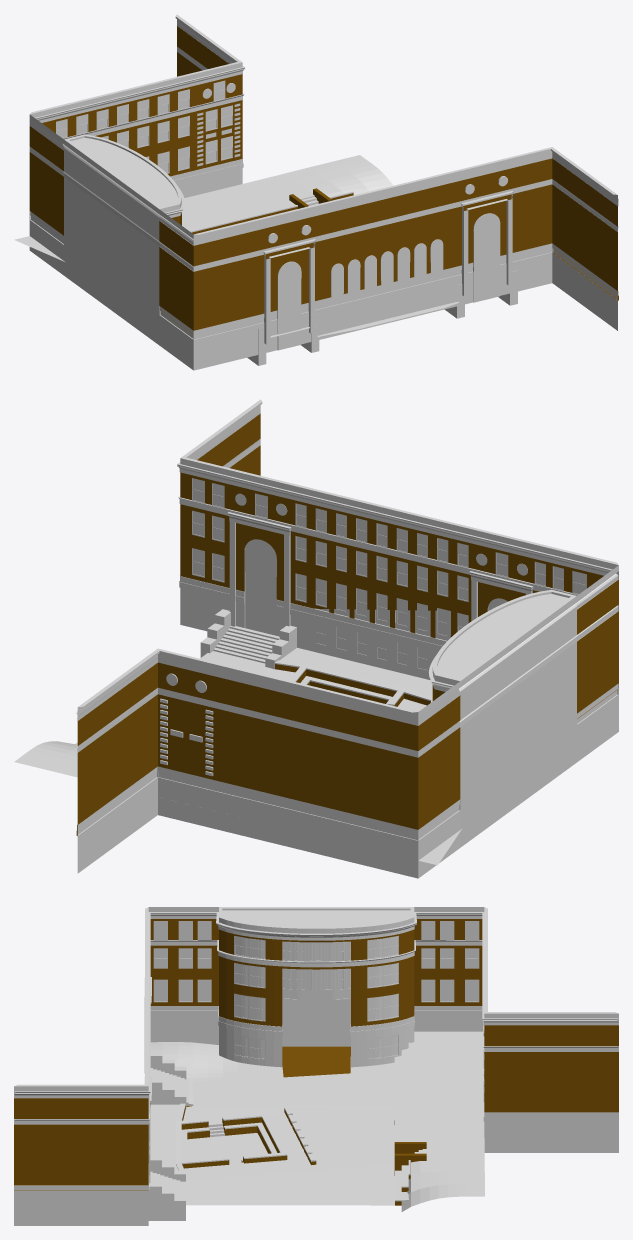
File: cech entrance -joined and seamed3.fbx
3 renders of one model, top to bottom at view 1: azimuth 30°, elevation 25°; view 2: azimuth 150°, elevation 25°; view 3: azimuth 270°, elevation 25°, orthographic. The views are drawn at different scales.
Visible parts, largest first — view 1: 00building-no-windows-bricks; view 2: 00building-no-windows-bricks; view 3: 00building-no-windows-bricks.
Part boxes in pixels (left/top/right/bottom): 00building-no-windows-bricks: left=14, top=14, right=618, bottom=370; 00building-no-windows-bricks: left=14, top=399, right=618, bottom=878; 00building-no-windows-bricks: left=14, top=907, right=618, bottom=1225.
Bounding box in the file's own units: 23544 × 8873 × 32019.
